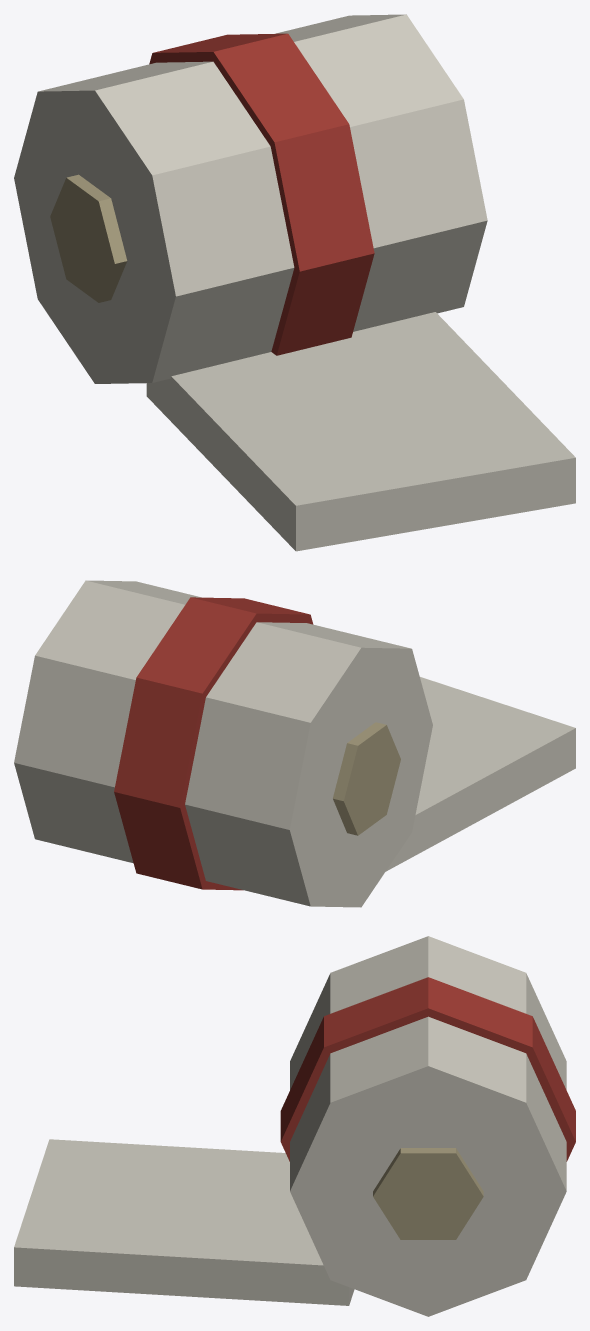
Rendered from item_bandage.glb.
3 renders of one model, top to bottom at view 1: azimuth 30°, elevation 25°; view 2: azimuth 150°, elevation 25°; view 3: azimuth 270°, elevation 25°, orthographic. The views are drawn at different scales.
Visible parts, largest first — view 1: bandage; view 2: bandage; view 3: bandage.
Boxes of the visible parts, <box> form: bandage: <box>14,14,575,551</box>; bandage: <box>14,580,575,907</box>; bandage: <box>14,936,575,1316</box>.
Size of the model in its own units: 0.1107 by 0.096 by 0.1827.
